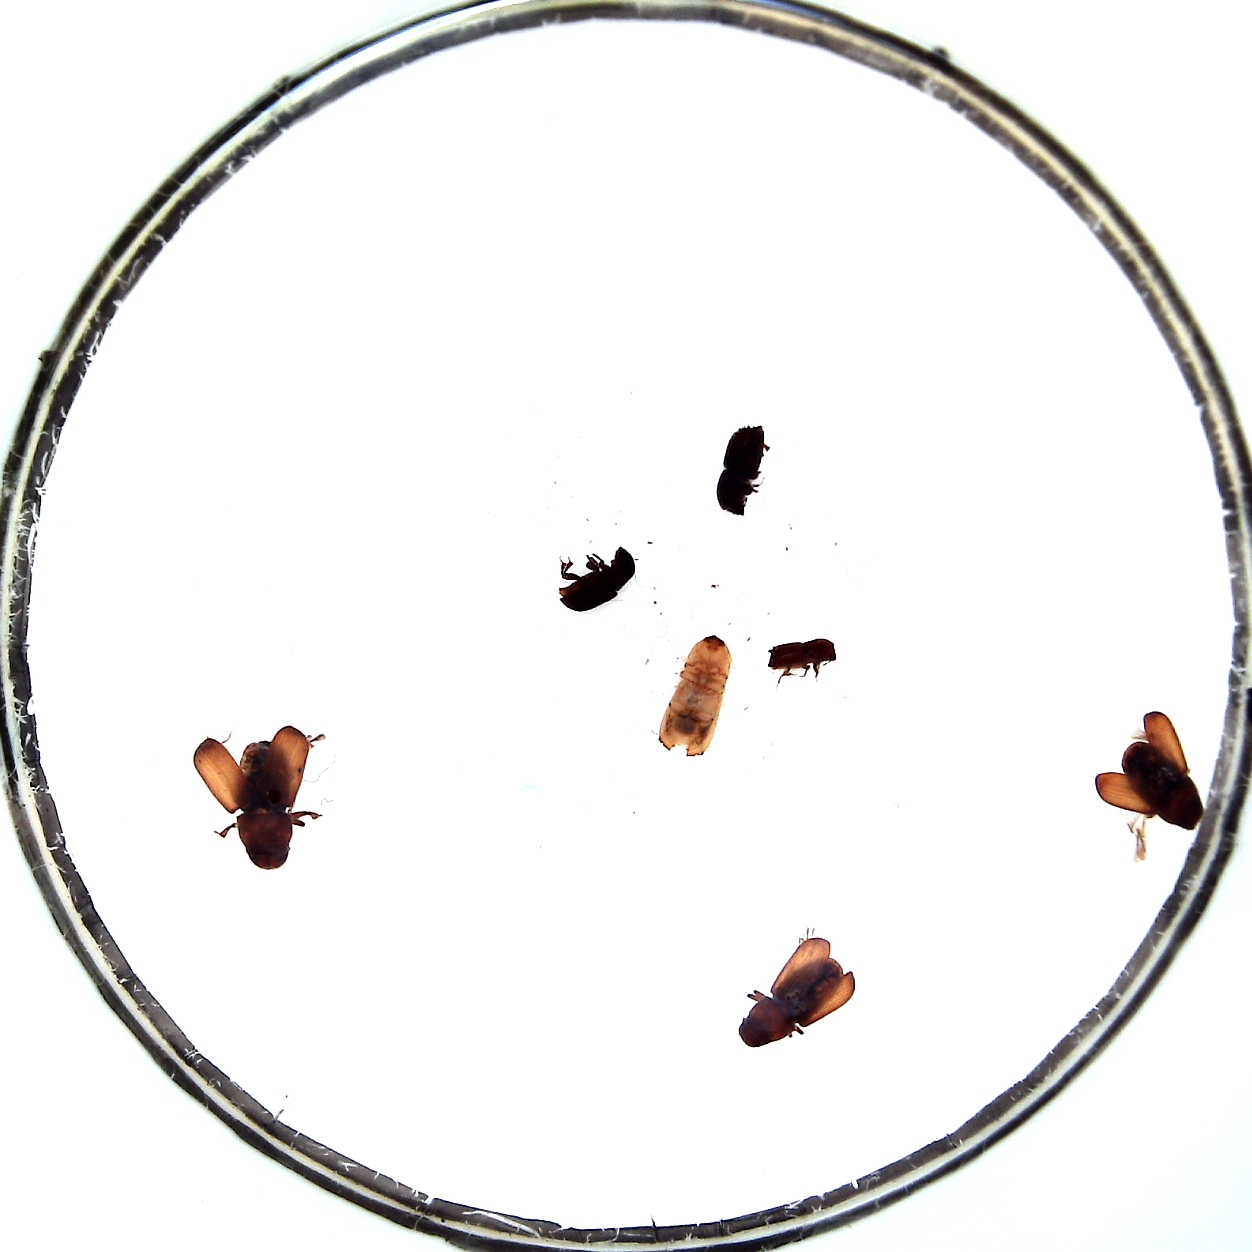Boerner: (657, 633, 730, 758)
Leconte: (191, 725, 316, 871), (737, 936, 858, 1048), (1094, 709, 1204, 828)
Linnaeus: (714, 422, 770, 514)
acuminatus: (766, 635, 839, 681)
armandi: (553, 545, 634, 612)
